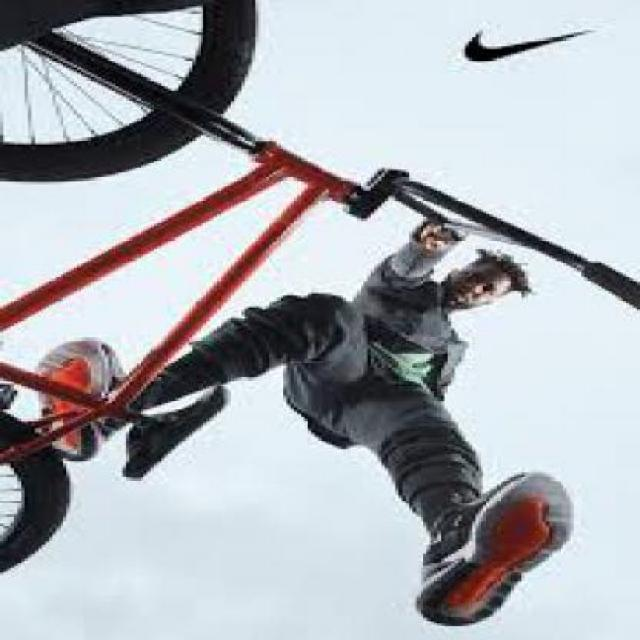Nike: (455, 19, 598, 64)
